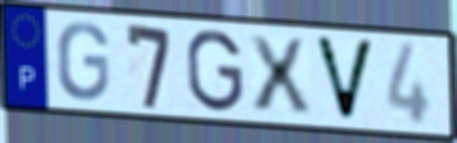4: (383, 39, 437, 130)
7: (124, 20, 172, 112)
G: (183, 27, 246, 114), (55, 20, 111, 104)
V: (311, 33, 378, 125)
X: (244, 32, 315, 115)
